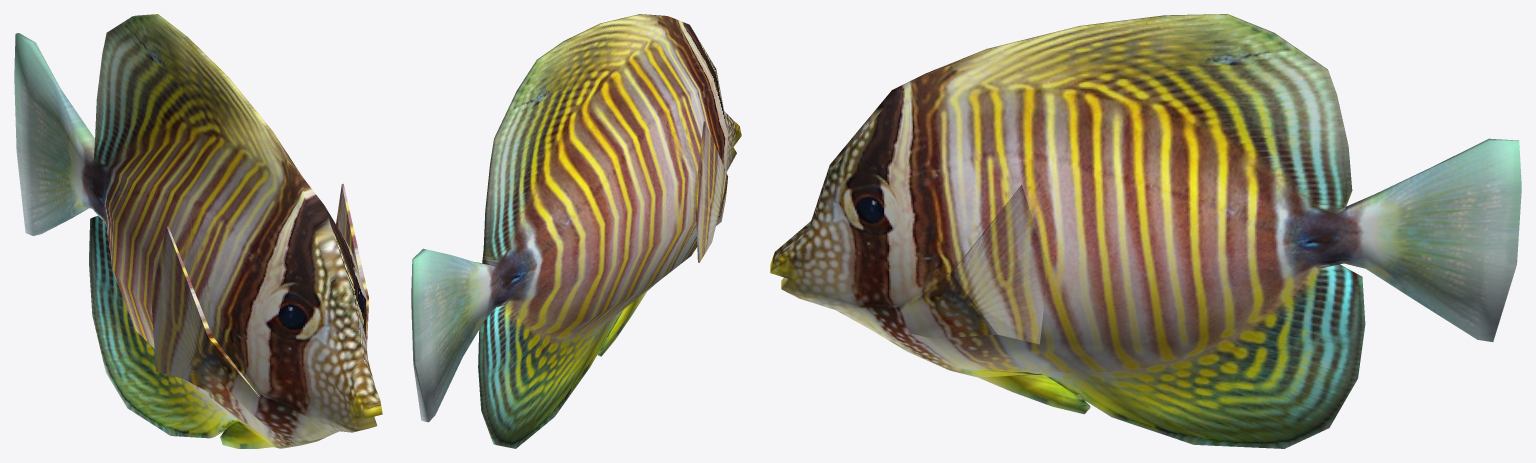
File: TropicalFish01.gltf
3 views of the same model, side by side, from view 1: azimuth 30°, elevation 25°; view 2: azimuth 150°, elevation 25°; view 3: azimuth 270°, elevation 25° (orthographic). The views are drawn at different scales.
Visible parts, largest first — view 1: TropicalFish01; view 2: TropicalFish01; view 3: TropicalFish01.
Part boxes in pixels (<box>): TropicalFish01: <box>14,14,382,448</box>; TropicalFish01: <box>411,14,741,448</box>; TropicalFish01: <box>770,14,1521,448</box>.
Bounding box in the file's own units: 134 × 289 × 455.
Materials: 1 (1 with a texture image).
